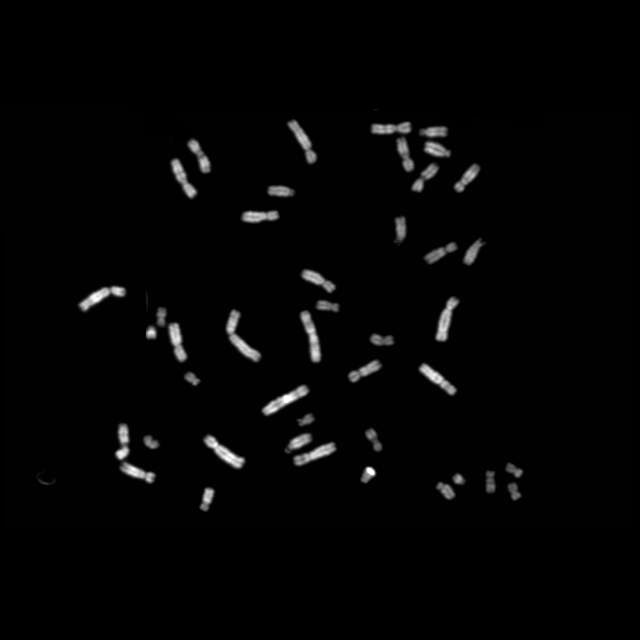chromosome: (226, 308, 260, 362), (260, 386, 310, 416), (202, 434, 244, 468), (287, 120, 317, 164), (78, 286, 125, 312), (418, 363, 456, 395), (171, 158, 197, 198), (301, 310, 321, 362), (436, 296, 458, 342), (294, 442, 336, 466), (301, 268, 335, 292), (188, 139, 212, 173), (120, 461, 156, 483), (412, 165, 440, 193), (168, 322, 188, 361), (348, 358, 380, 382), (455, 164, 481, 192), (113, 422, 131, 460), (426, 242, 456, 264), (284, 432, 312, 454), (395, 137, 413, 171), (371, 121, 412, 135), (463, 238, 485, 264), (389, 216, 406, 246), (424, 140, 452, 158), (365, 428, 383, 454), (242, 211, 280, 223), (268, 184, 296, 198), (370, 332, 394, 348), (436, 482, 456, 501), (420, 125, 448, 138), (314, 300, 342, 312), (504, 462, 524, 478), (200, 489, 214, 511), (361, 466, 375, 484), (183, 372, 200, 386), (508, 484, 522, 501), (486, 471, 496, 494), (144, 434, 158, 450), (155, 308, 167, 326), (297, 414, 315, 426), (145, 326, 157, 340), (454, 474, 466, 484)
